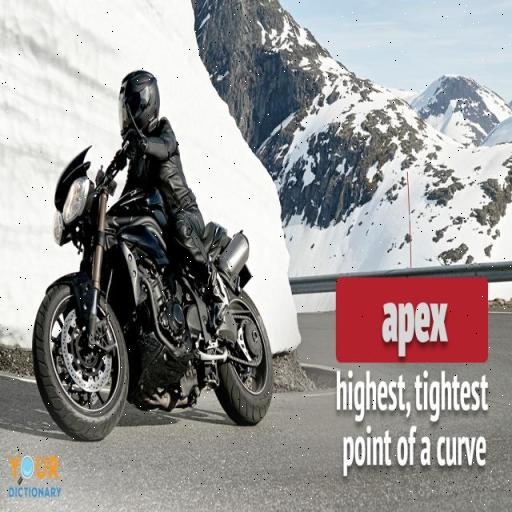Helmet: (119, 71, 159, 136)
Motor: (25, 150, 289, 460)
